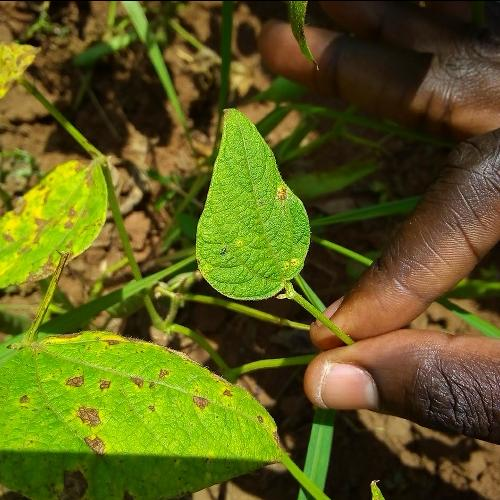hawar: (3, 304, 222, 497)
mozaik: (0, 158, 110, 280)
